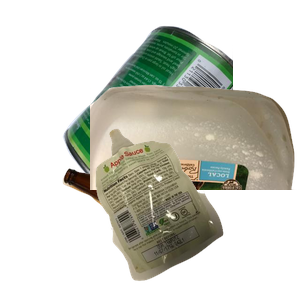glass: (60, 166, 241, 300)
metal: (60, 23, 300, 203)
plastic: (90, 82, 300, 262)
trash: (93, 126, 300, 300)
